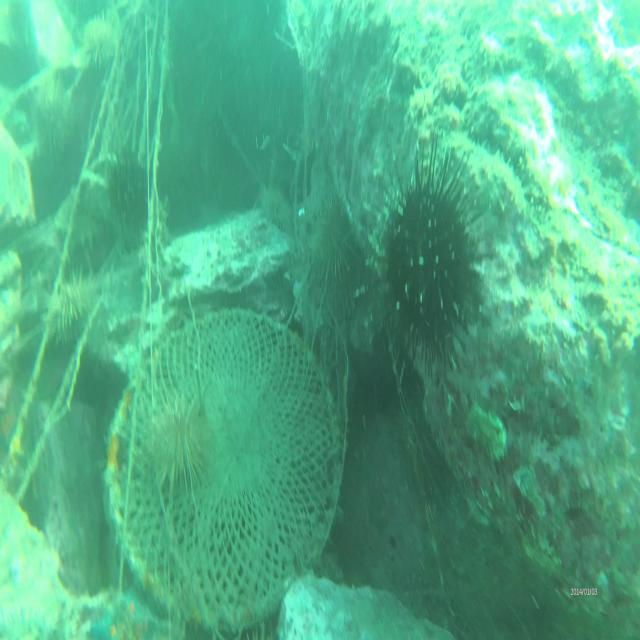echinus: (389, 154, 480, 335), (151, 400, 209, 482), (312, 200, 358, 288), (33, 81, 76, 152), (50, 272, 93, 340), (109, 153, 147, 217), (82, 16, 118, 68)
holothurian: (468, 95, 551, 211), (442, 129, 527, 221)
starfish: (119, 586, 150, 640), (88, 605, 127, 640), (1, 401, 22, 452)
